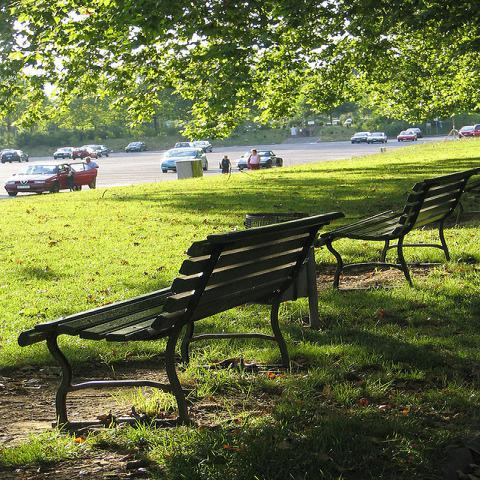car: (171, 123, 479, 148), (5, 159, 98, 197), (161, 147, 208, 174), (237, 150, 284, 170), (80, 143, 117, 158), (1, 150, 29, 164), (71, 147, 99, 160), (52, 146, 76, 160), (124, 141, 150, 153), (192, 140, 214, 153), (349, 131, 371, 144), (396, 130, 419, 142), (405, 126, 424, 138), (459, 126, 475, 138)
